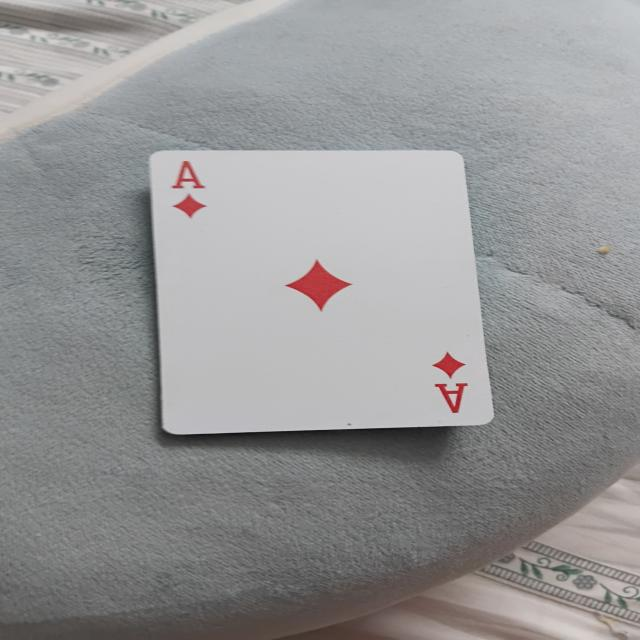AD: (153, 144, 493, 439)
